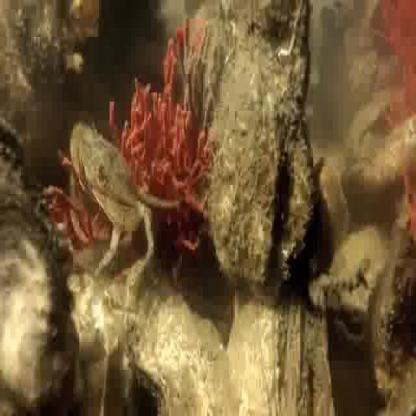Oyster- Indeterminate: (213, 0, 311, 288)
Oyster-Closed: (0, 163, 79, 416), (0, 122, 26, 169)
